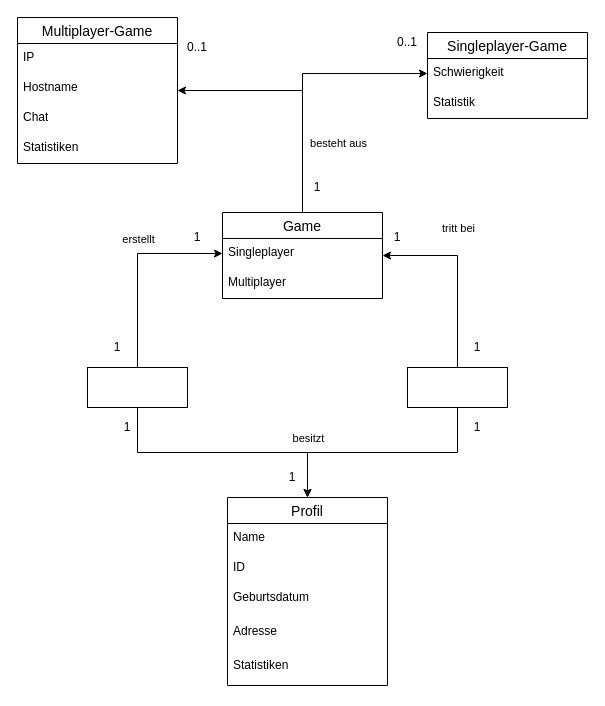
Some shapes in this 605 by 706 pixel diagram are drawn without their labels. The centre of each missing label's shape, as x and y in pixels:
User1 (Host): the point at 137,387
User2 (Gast): the point at 457,387
